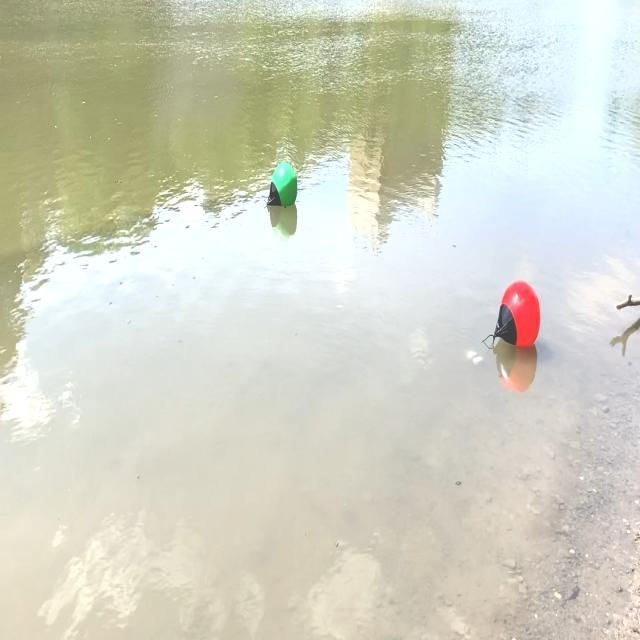buoy: (492, 284, 540, 348), (270, 160, 296, 207)
